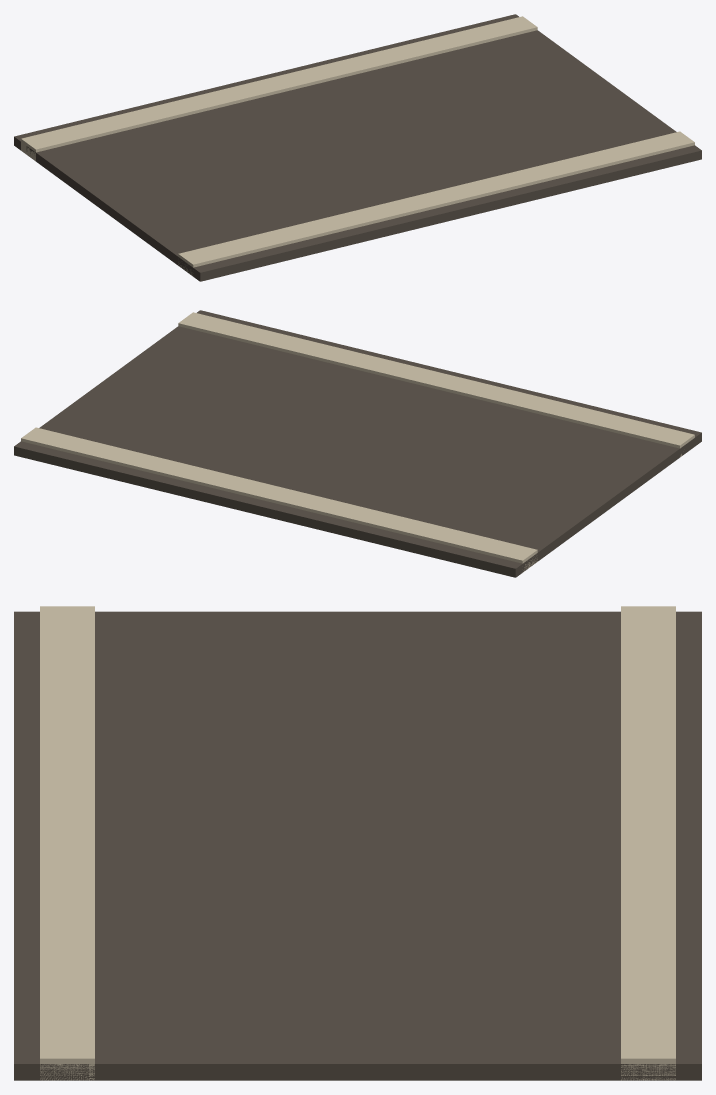
The model's file is bath-mat.glb.
3 views of the same model, one above another, from view 1: azimuth 30°, elevation 25°; view 2: azimuth 150°, elevation 25°; view 3: azimuth 270°, elevation 25° (orthographic). The views are drawn at different scales.
Visible parts, largest first — view 1: fabric, paper; view 2: fabric, paper; view 3: fabric, paper.
Part boxes in pixels (<box>): fabric: <box>14,14,701,281</box>; paper: <box>21,16,694,276</box>; fabric: <box>14,310,701,577</box>; paper: <box>21,312,694,572</box>; fabric: <box>14,611,701,1080</box>; paper: <box>40,606,675,1080</box>.
Size of the model in its own units: 0.7 by 0.016 by 0.45.
